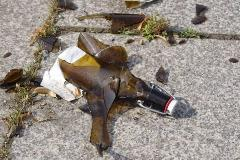glass: (3, 0, 212, 160)
